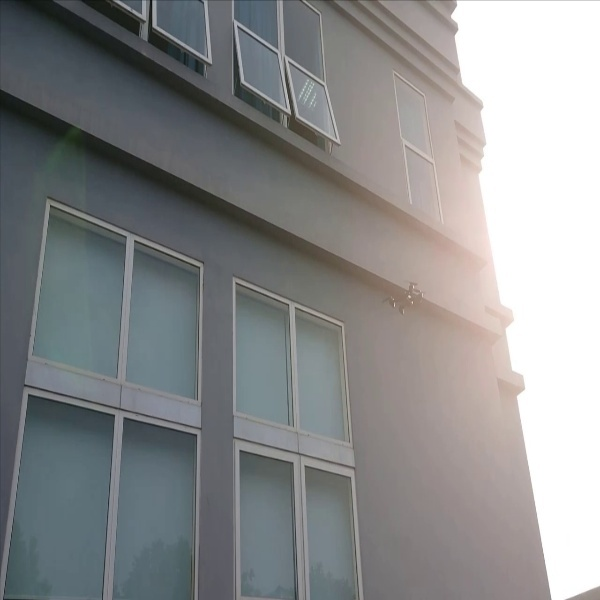drone: (375, 279, 430, 317)
